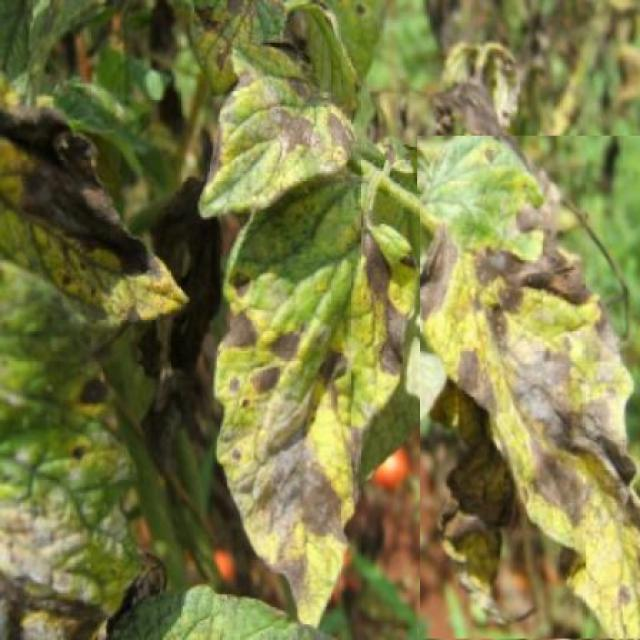Early Blight: (417, 136, 640, 638), (214, 192, 420, 628)
